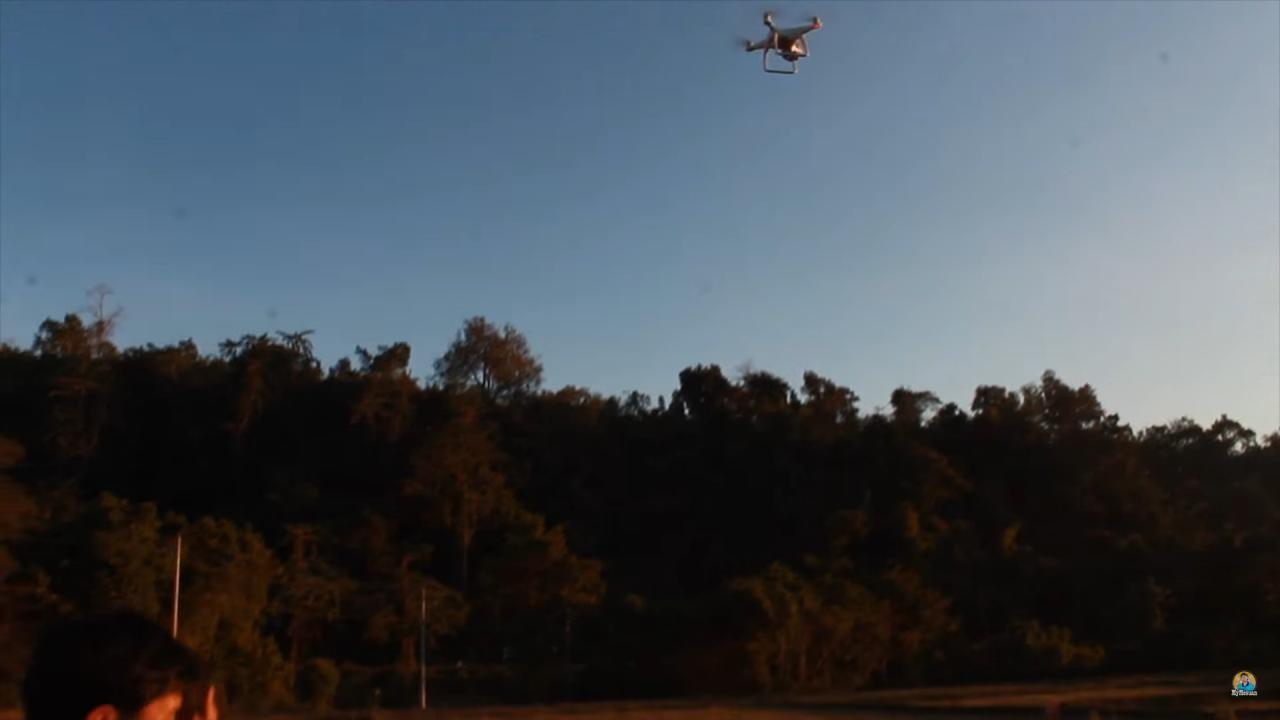Drone: (725, 0, 836, 88)
